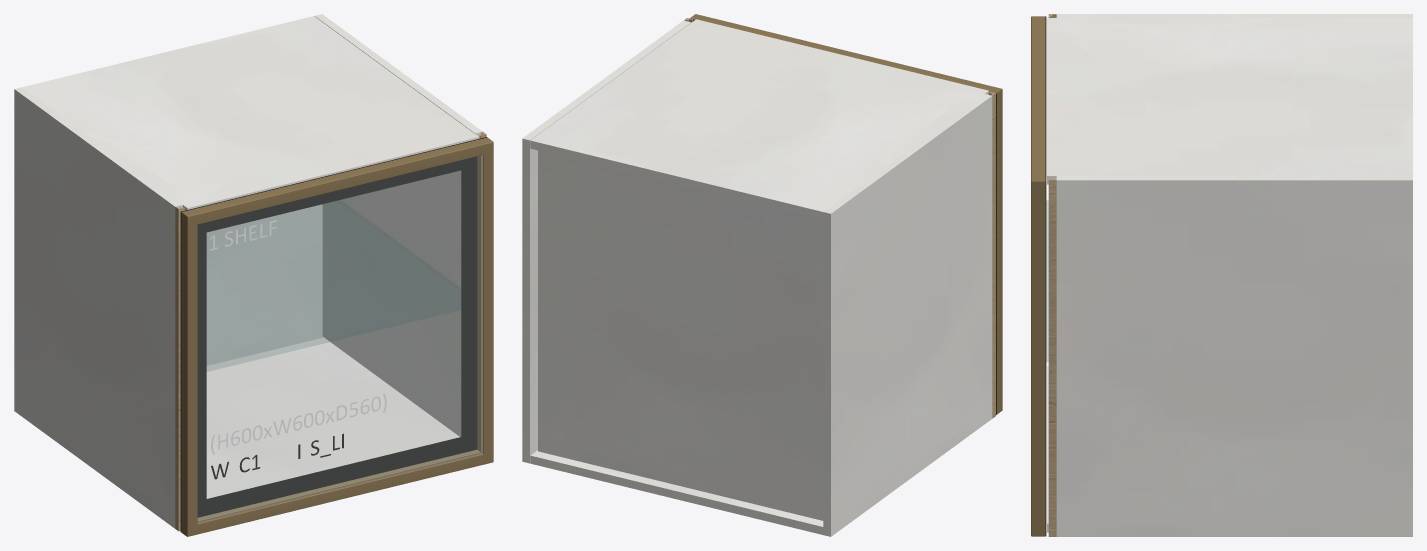
Rendered from LOF-SH-NHX-GL-1SG-LHS-XXX-600-600-560-15.glb.
3 renders of one model, left to right at view 1: azimuth 30°, elevation 25°; view 2: azimuth 150°, elevation 25°; view 3: azimuth 270°, elevation 25°, orthographic. The views are drawn at different scales.
Visible parts, largest first — view 1: Object_node_4, TP_node_0, TP, TP_node_1, TP_node, Neon 22 Profile ALU PROF NEON 20 L21XH22.5MM 3MTR S2/405 SEC (×4), Object_node_6, TP_node_2, Object_node_8, 2D text_node_0; view 2: TP_node_2, TP_node_0, TP, TP_node_1, TP_node, Neon 22 Profile ALU PROF NEON 20 L21XH22.5MM 3MTR S2/405 SEC (×2), Object_node_8; view 3: TP_node_1, TP, Neon 22 Profile ALU PROF NEON 20 L21XH22.5MM 3MTR S2/405 SEC (×2), Object_node_14, TP_node_0, Object_node_6.
Boxes of the visible parts, x1,y1,x2,y2 form: Object_node_4: (198,155,482,522); TP_node_0: (14,87,182,528); TP: (22,16,479,210); TP_node_1: (314,14,482,436); TP_node: (206,337,459,498); Neon 22 Profile ALU PROF NEON 20 L21XH22.5MM 3MTR S2/405 SEC (×4): (181,137,493,536); Object_node_6: (180,137,486,531); TP_node_2: (206,204,322,365); Object_node_8: (175,206,184,531); 2D text_node_0: (211,393,386,454); TP_node_2: (538,150,823,520); TP_node_0: (823,94,992,536); TP: (530,19,988,219); TP_node_1: (522,20,691,463); TP_node: (530,450,823,534); Neon 22 Profile ALU PROF NEON 20 L21XH22.5MM 3MTR S2/405 SEC (×2): (690,14,1002,414); Object_node_8: (988,91,995,418); TP_node_1: (1056,176,1412,536); TP: (1047,18,1412,184); Neon 22 Profile ALU PROF NEON 20 L21XH22.5MM 3MTR S2/405 SEC (×2): (1031,16,1045,536); Object_node_14: (1048,177,1056,536); TP_node_0: (1056,14,1412,17); Object_node_6: (1045,16,1046,536).
Size of what is drawn, in the model's own units: 0.6 by 0.6 by 0.582.
8 materials, 2 textured.
